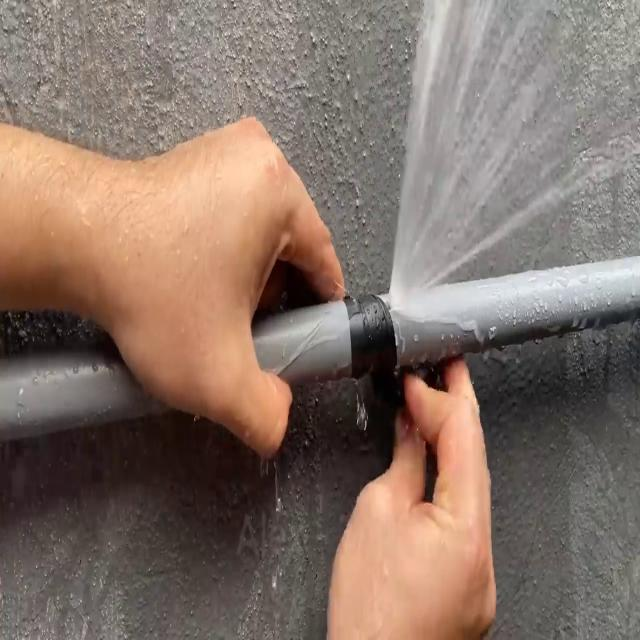leak: (388, 0, 640, 310)
